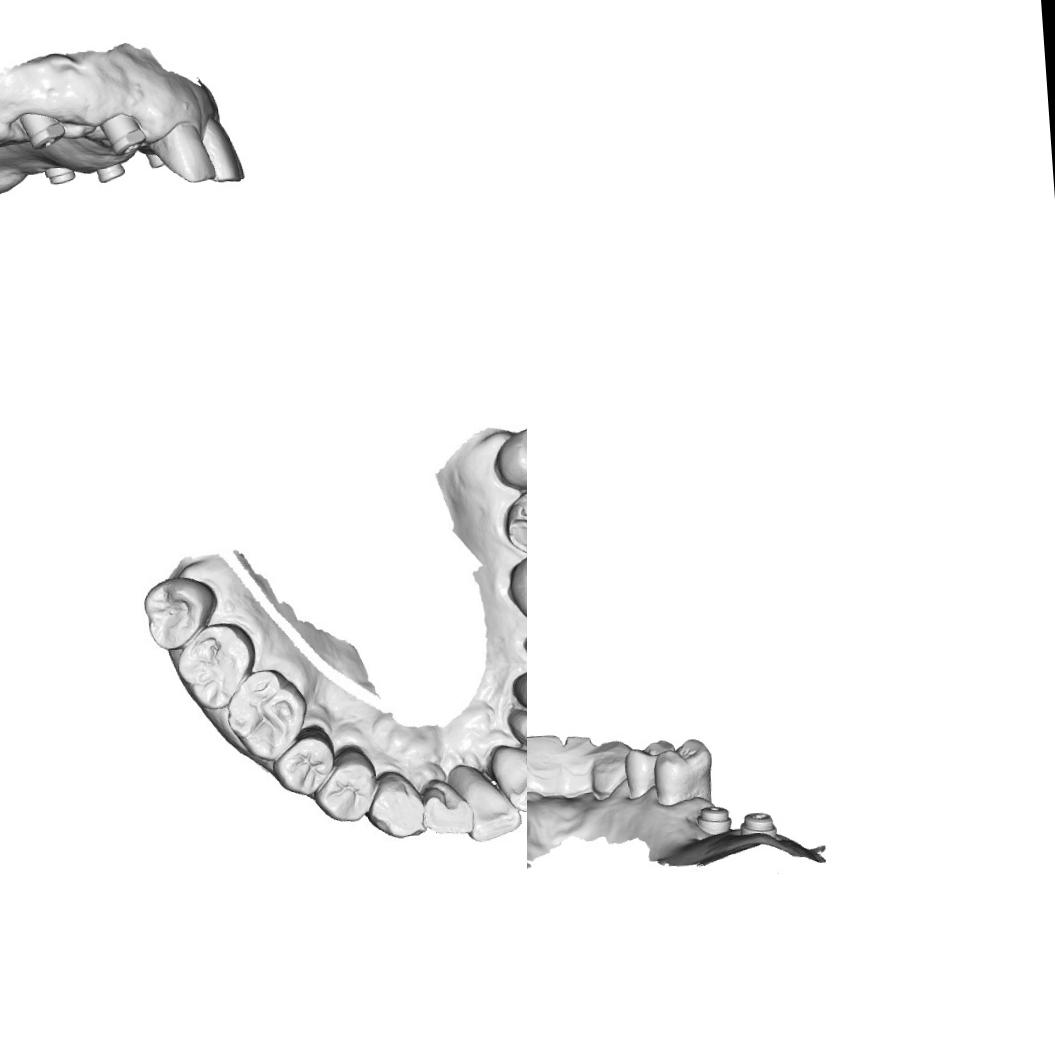canine: (366, 778, 424, 844), (587, 738, 635, 801), (506, 703, 527, 765)
implant: (23, 110, 66, 150), (104, 114, 144, 154), (694, 802, 734, 838), (43, 162, 76, 189), (95, 161, 128, 182)
implant_minus: (737, 808, 778, 842)
incisor: (451, 764, 521, 848), (147, 118, 218, 188), (420, 777, 478, 843), (199, 119, 247, 185), (527, 731, 565, 798), (491, 744, 527, 810), (562, 732, 597, 794)
molar: (224, 670, 302, 766), (178, 628, 246, 703), (142, 579, 206, 644), (493, 416, 527, 489), (501, 484, 527, 557), (504, 551, 527, 627)
premolar: (648, 735, 716, 808), (272, 730, 337, 798), (318, 756, 374, 824), (621, 737, 678, 800)
